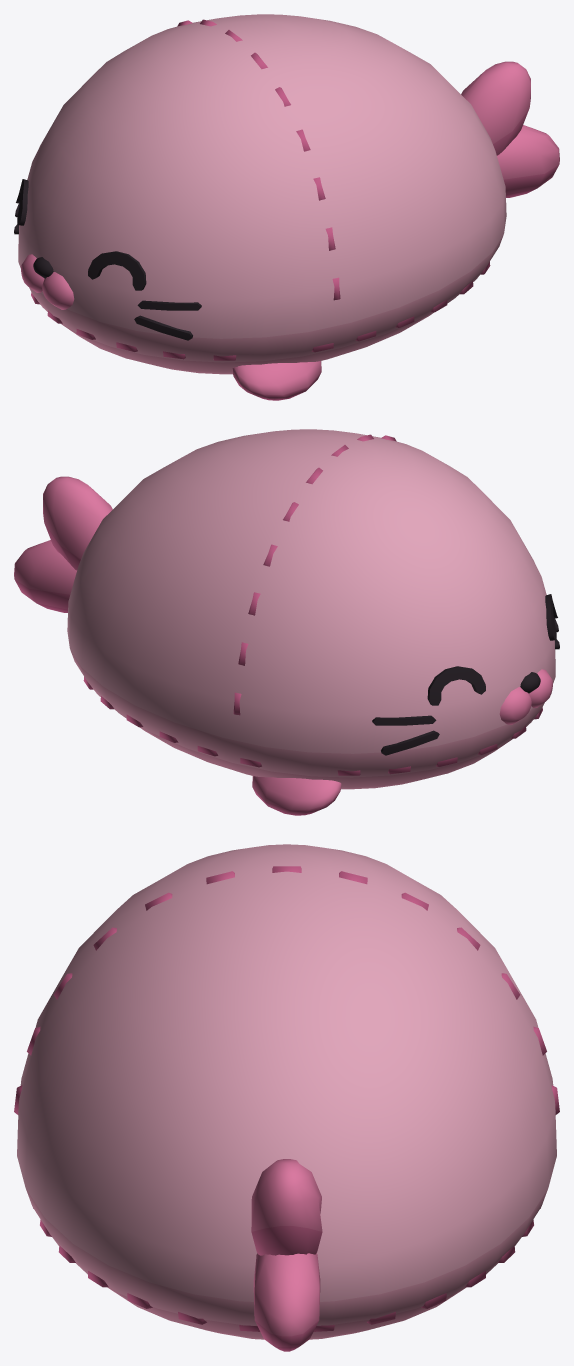
Rendered from Cosmetic_SealPillow_Pink.glb.
3 renders of one model, top to bottom at view 1: azimuth 30°, elevation 25°; view 2: azimuth 150°, elevation 25°; view 3: azimuth 270°, elevation 25°, orthographic. The views are drawn at different scales.
Visible parts, largest first — view 1: Cosmetic_SealPillow_Pink; view 2: Cosmetic_SealPillow_Pink; view 3: Cosmetic_SealPillow_Pink.
Boxes of the visible parts, <box> form: Cosmetic_SealPillow_Pink: <box>14,14,559,400</box>; Cosmetic_SealPillow_Pink: <box>14,429,559,815</box>; Cosmetic_SealPillow_Pink: <box>14,844,559,1351</box>.
Size of the model in its own units: 0.5914 by 0.3323 by 0.4125.
